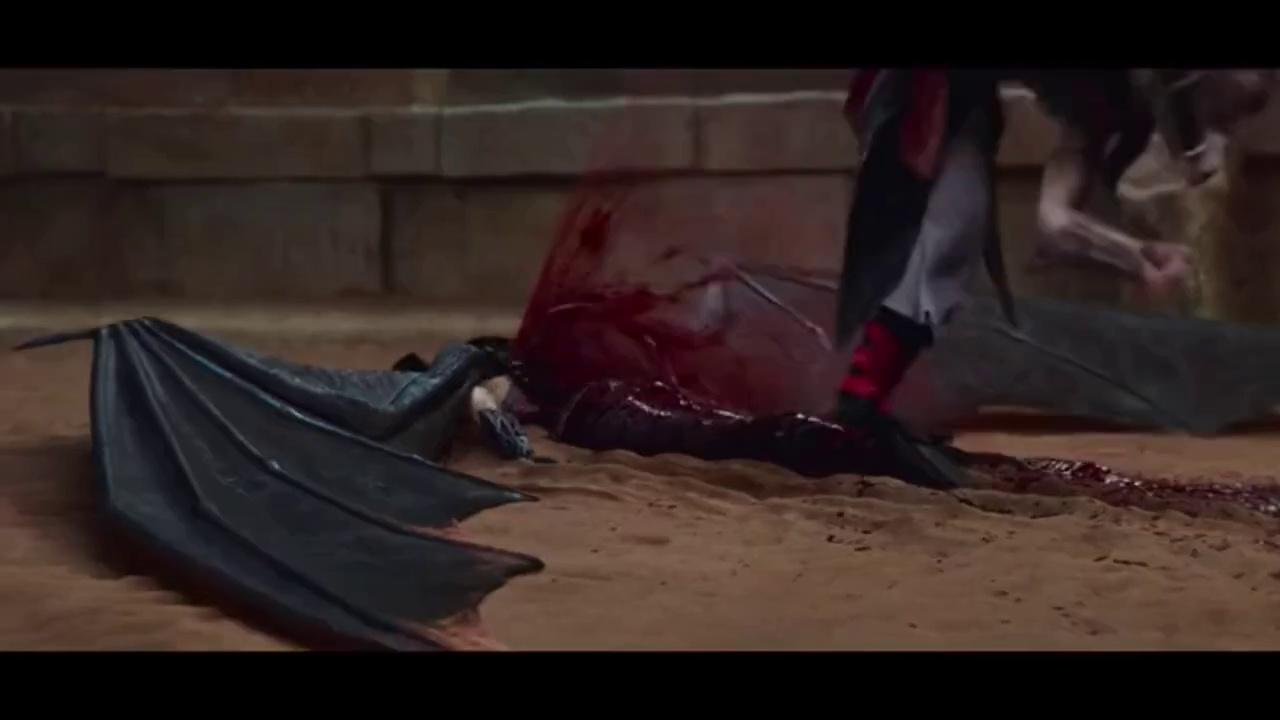Fire: (511, 137, 842, 448), (964, 454, 1280, 544), (959, 495, 1027, 516)
